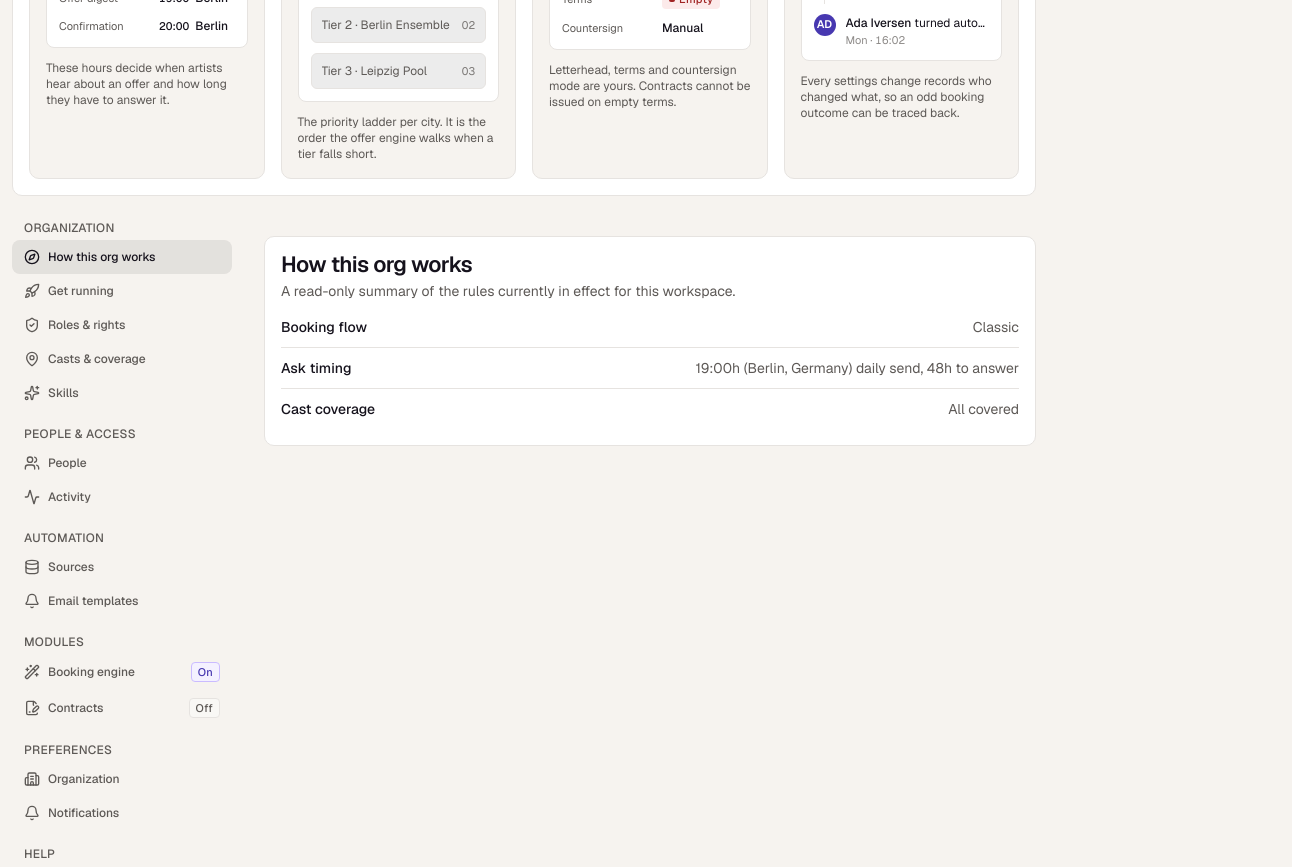
SettingsPage Booking engine tab Save affordance › keeps the page-level Save when the dirt is on another tab
(page scrolled)
Press the mouse on the tab "Notifications": (122, 813) [12,796,232,830]
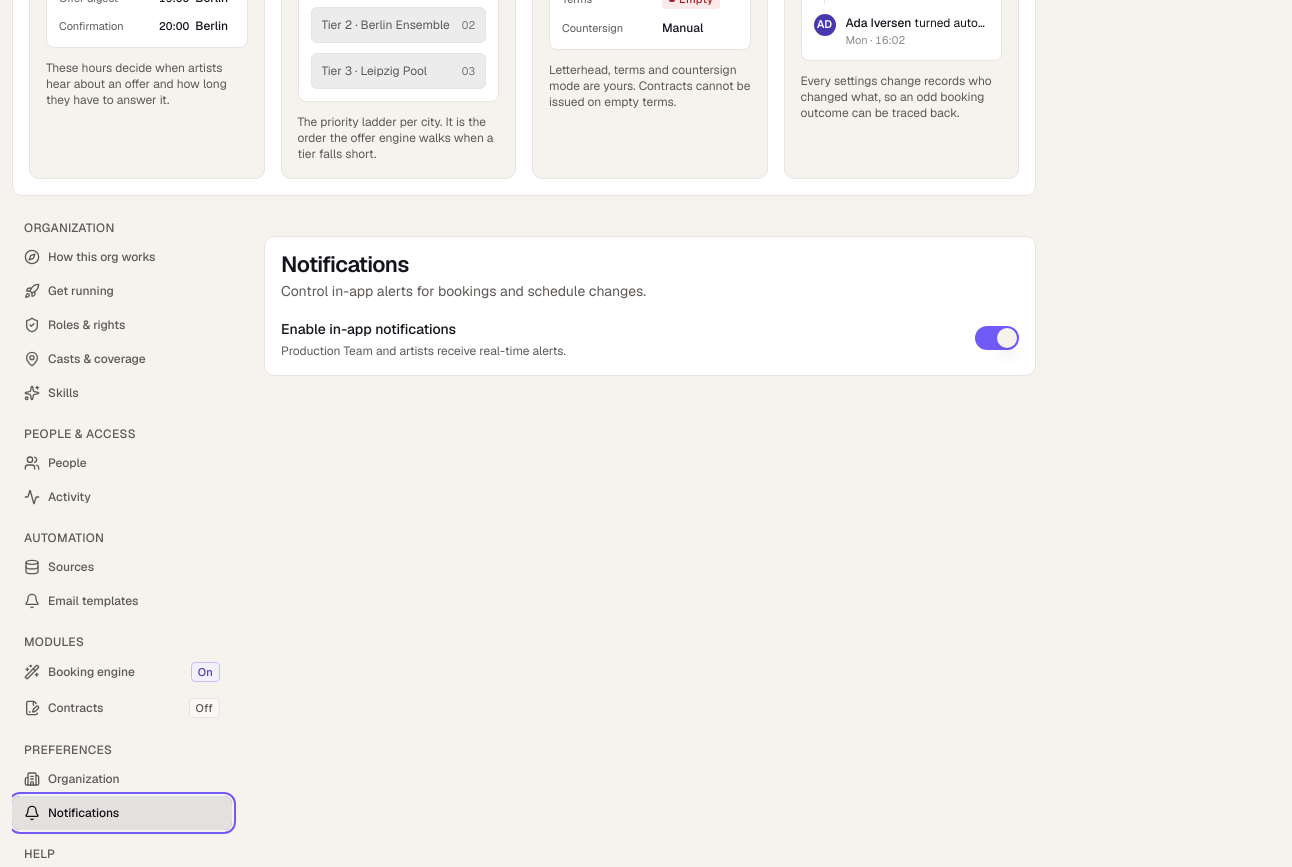
Click the switch: (997, 338) [975,326,1019,350]
(page scrolled)
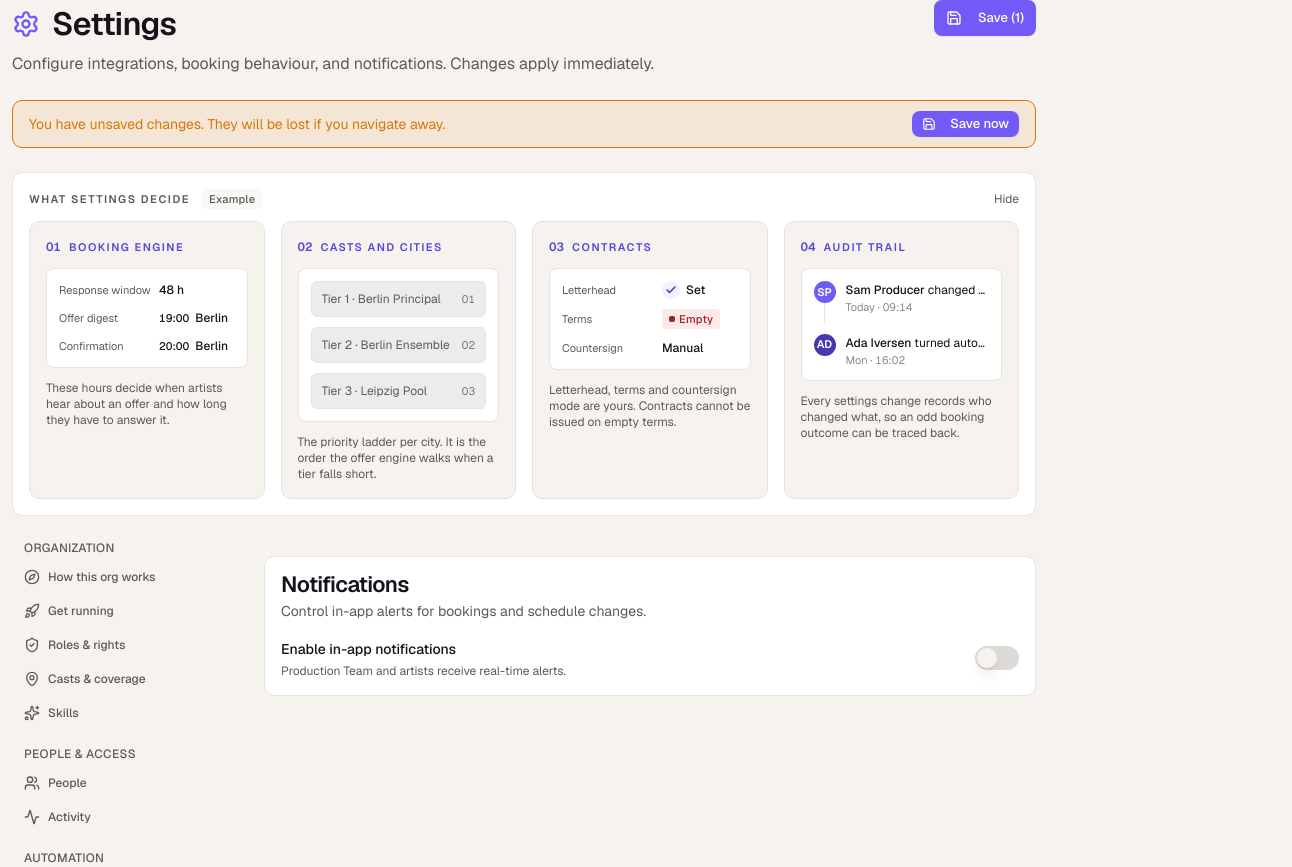
Now the button "Save (1)" is shown, box [934,0,1036,36]
Now the text "unsaved changes" is shown, box [29,115,445,133]
